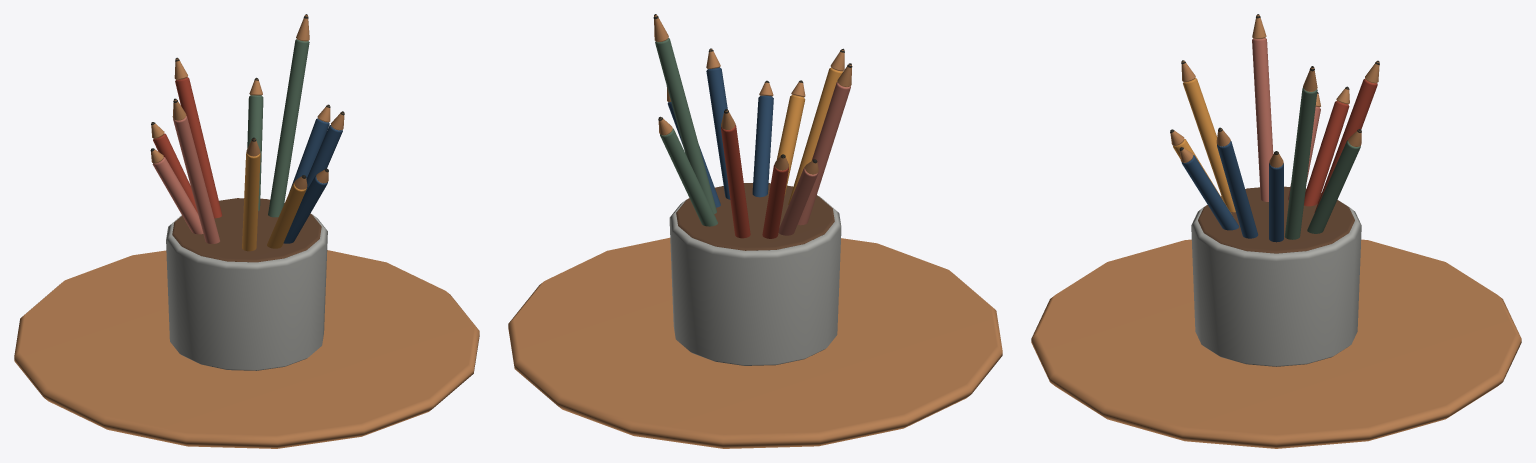
File: drawing.glb
3 views of the same model, side by side, from view 1: azimuth 30°, elevation 25°; view 2: azimuth 150°, elevation 25°; view 3: azimuth 270°, elevation 25° (orthographic). The views are drawn at different scales.
Visible parts, largest first — view 1: Cone, Cone.001, Cone.002, Cone.027, Cone.015, Cone.021, Cone.024, Cone.030, Cone.009, Cone.033, Cone.012, Cone.003 (+2 smaller); view 2: Cone, Cone.001, Cone.002, Cone.027, Cone.021, Cone.015, Cone.012, Cone.033, Cone.018, Cone.024, Cone.006, Cone.009 (+1 smaller); view 3: Cone, Cone.001, Cone.002, Cone.027, Cone.015, Cone.024, Cone.006, Cone.018, Cone.012, Cone.033, Cone.021, Cone.003.
Part boxes in pixels (x1=…): Cone: x1=14, y1=250, x2=479, y2=448; Cone.001: x1=166, y1=214, x2=327, y2=370; Cone.002: x1=172, y1=198, x2=321, y2=262; Cone.027: x1=268, y1=39, x2=309, y2=217; Cone.015: x1=173, y1=115, x2=219, y2=243; Cone.021: x1=175, y1=77, x2=222, y2=218; Cone.024: x1=242, y1=152, x2=260, y2=251; Cone.030: x1=152, y1=157, x2=203, y2=234; Cone.009: x1=267, y1=182, x2=306, y2=248; Cone.033: x1=283, y1=175, x2=327, y2=243; Cone.012: x1=247, y1=95, x2=263, y2=210; Cone.003: x1=289, y1=118, x2=329, y2=192; Cone: x1=508, y1=237, x2=1002, y2=448; Cone.001: x1=669, y1=196, x2=841, y2=365; Cone.002: x1=676, y1=183, x2=834, y2=250; Cone.027: x1=655, y1=38, x2=716, y2=213; Cone.021: x1=721, y1=124, x2=750, y2=238; Cone.015: x1=797, y1=82, x2=850, y2=225; Cone.012: x1=660, y1=128, x2=717, y2=226; Cone.033: x1=752, y1=95, x2=773, y2=197; Cone.018: x1=706, y1=67, x2=730, y2=199; Cone.024: x1=788, y1=68, x2=843, y2=204; Cone.006: x1=762, y1=164, x2=788, y2=238; Cone.009: x1=776, y1=95, x2=805, y2=195; Cone: x1=1031, y1=239, x2=1521, y2=448; Cone.001: x1=1191, y1=199, x2=1361, y2=366; Cone.002: x1=1198, y1=186, x2=1354, y2=253; Cone.027: x1=1284, y1=87, x2=1317, y2=239; Cone.015: x1=1252, y1=38, x2=1273, y2=201; Cone.024: x1=1183, y1=78, x2=1235, y2=212; Cone.006: x1=1304, y1=101, x2=1349, y2=206; Cone.018: x1=1217, y1=140, x2=1258, y2=238; Cone.012: x1=1307, y1=140, x2=1360, y2=233; Cone.033: x1=1181, y1=155, x2=1239, y2=230; Cone.021: x1=1314, y1=79, x2=1377, y2=212; Cone.003: x1=1269, y1=163, x2=1283, y2=242.
Bounding box in the file's own units: 2.18 × 1.57 × 2.18.
